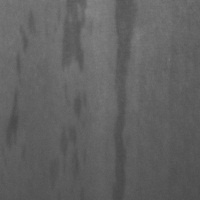inclusion: (101, 1, 140, 199), (5, 12, 40, 164), (46, 126, 94, 198), (60, 0, 88, 74), (63, 81, 89, 123)
